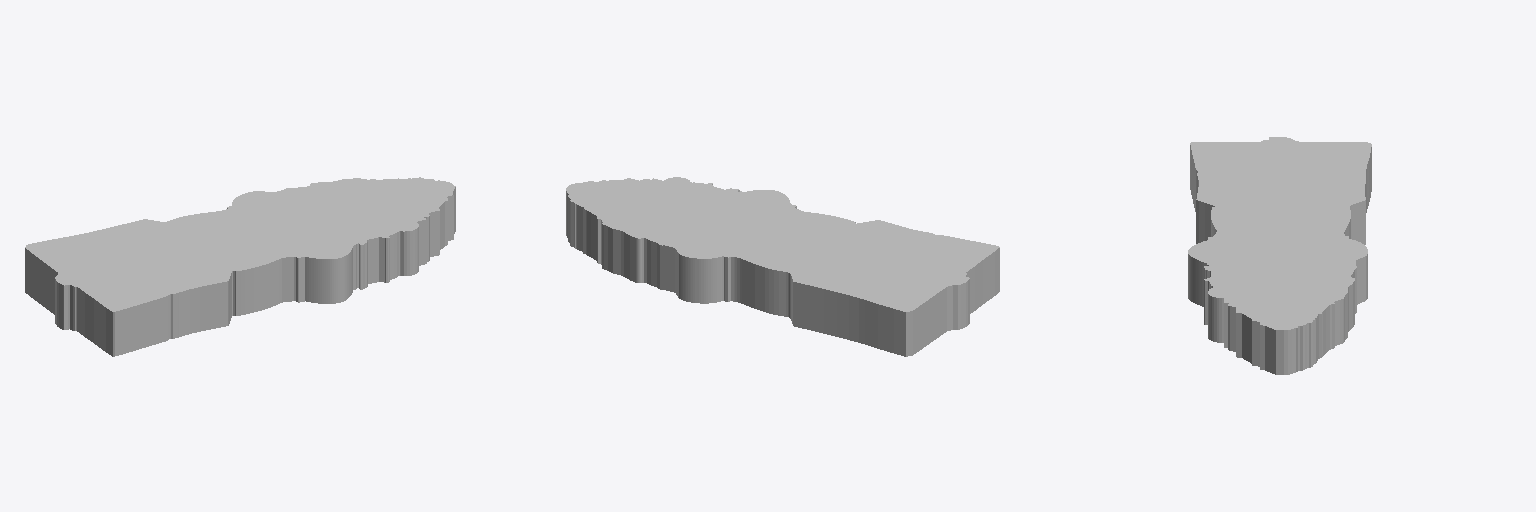
Rendered from Germain_Zebeks.obj.
3 views of the same model, side by side, from view 1: azimuth 30°, elevation 25°; view 2: azimuth 150°, elevation 25°; view 3: azimuth 270°, elevation 25° (orthographic).
Visible parts, largest first — view 1: Mesh1 Group1 Model; view 2: Mesh1 Group1 Model; view 3: Mesh1 Group1 Model.
Boxes of the visible parts, x1=… form: Mesh1 Group1 Model: x1=25, y1=177, x2=455, y2=356; Mesh1 Group1 Model: x1=566, y1=177, x2=999, y2=356; Mesh1 Group1 Model: x1=1188, y1=137, x2=1371, y2=374.
Size of the model in its own units: 1.83 by 0.1969 by 0.7339.